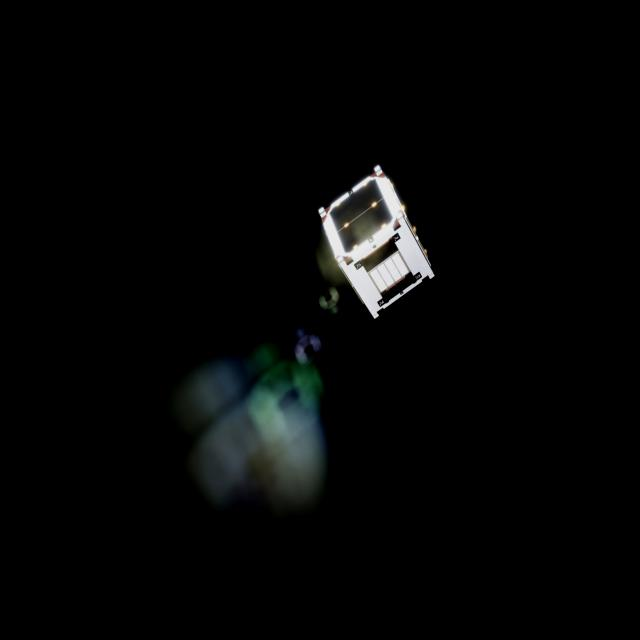satellite: (313, 164, 436, 322)
